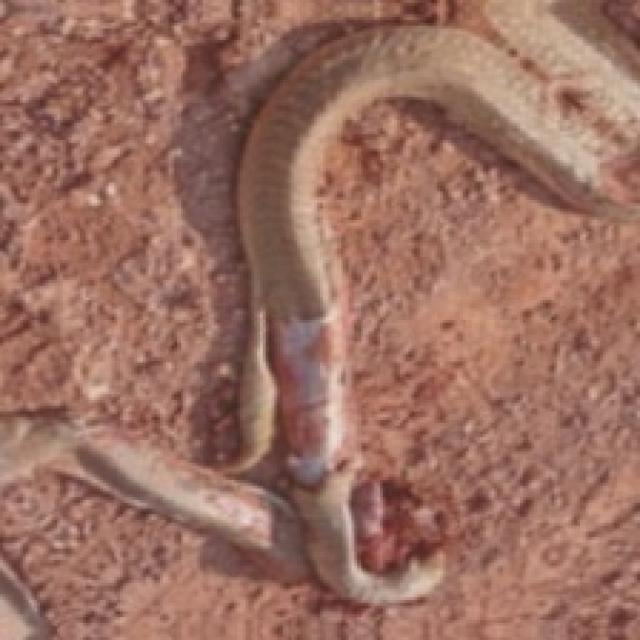king cobra: (0, 100, 637, 637), (0, 0, 469, 463)
